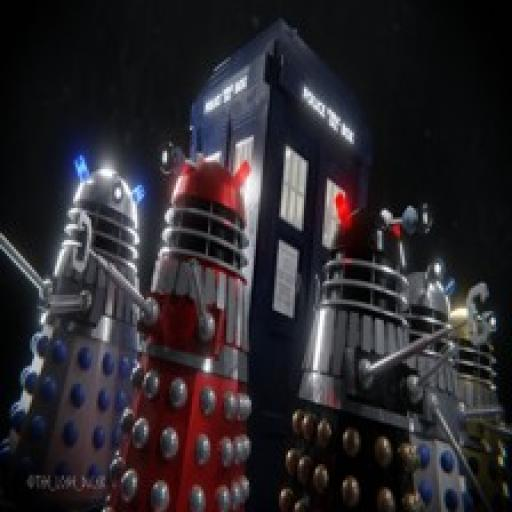dalek: (280, 192, 492, 512), (74, 146, 252, 512), (0, 148, 144, 512), (400, 260, 490, 512), (451, 303, 512, 512)
